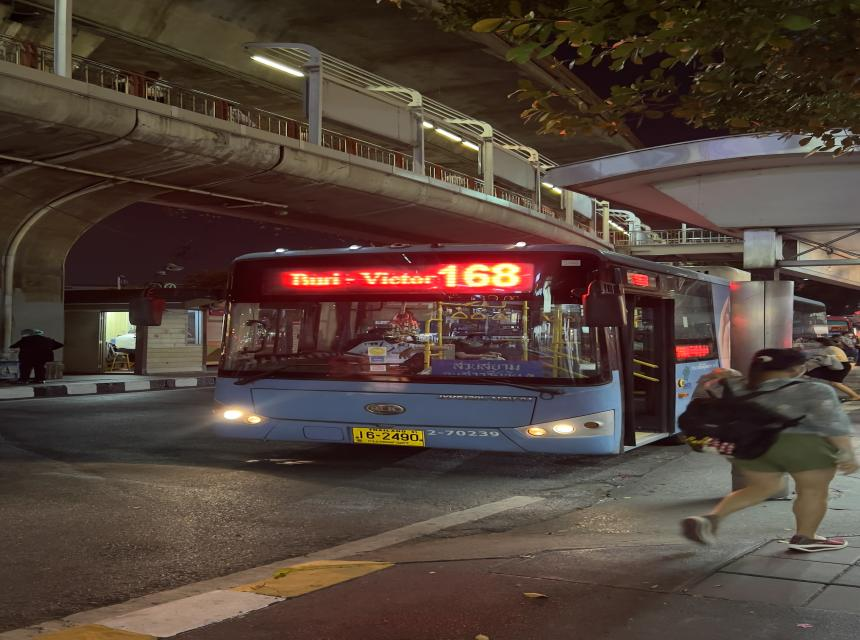BMTA-bus: (202, 243, 727, 458)
Bus Line Number: (433, 261, 530, 289)
Bus Side Number: (424, 427, 507, 440)
Destination Sign: (436, 359, 548, 376)
